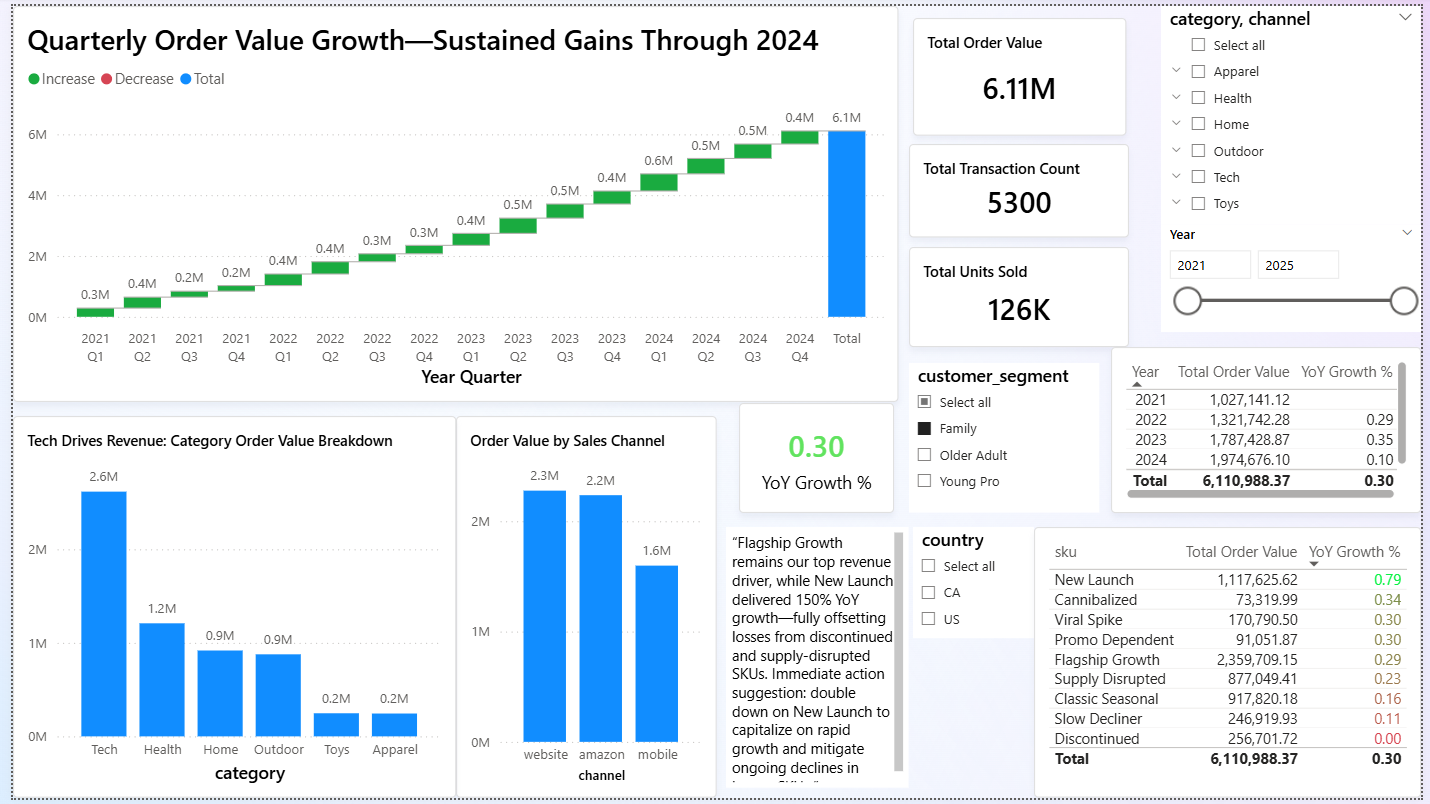

Layout of this report page (visuals, bound fields, positions):
{"tool":"powerbi","page":{"name":"KPI Dashboard","canvas":[1280,720],"ordinal":0},"visuals":[{"type":"waterfallChart","title":"Quarterly Order Value Growth—Sustained Gains Through 2024","fields":{"Category":["DateTable.Year","DateTable.Quarter"],"Y":["public mart_sales_summary.Total Order Value"]},"box":[0,0,805.3,359.9],"z":0},{"type":"slicer","fields":{"Values":["public mart_sales_summary.category","public mart_sales_summary.channel"]},"box":[1043.6,0,236.4,168.2],"z":1000},{"type":"card","title":"Total Units Sold","fields":{"Values":["Sum(public mart_sales_summary.total_units_sold)"]},"box":[814.1,218.8,200.4,91.4],"z":2000},{"type":"card","title":"Total Transaction Count","fields":{"Values":["Sum(public mart_sales_summary.transaction_count)"]},"box":[814.1,125.5,200.4,84.6],"z":3000},{"type":"card","title":"Total Order Value","fields":{"Values":["public mart_sales_summary.Total Order Value"]},"box":[818,10.7,193.6,107],"z":4000},{"type":"columnChart","title":"Order Value by Sales Channel","fields":{"Category":["public mart_sales_summary.channel"],"Y":["Sum(public mart_sales_summary.total_order_value)"]},"box":[402.7,372.5,237.3,347.2],"z":5000},{"type":"columnChart","title":"Tech Drives Revenue: Category Order Value Breakdown","fields":{"Y":["Sum(public mart_sales_summary.total_order_value)"],"Category":["public mart_sales_summary.category"]},"box":[0,372.5,402.7,347.2],"z":6000},{"type":"tableEx","fields":{"Values":["DateTable.Year","public mart_sales_summary.Total Order Value","public mart_sales_summary.YoY Growth %"]},"box":[997.9,310.3,282.1,150.8],"z":7000},{"type":"card","fields":{"Values":["public mart_sales_summary.YoY Growth %"]},"box":[660.4,360.9,141,100.2],"z":8000},{"type":"slicer","fields":{"Values":["DateTable.Year","DateTable.Month"]},"box":[1043.6,180,236.4,120.9],"z":9000},{"type":"slicer","fields":{"Values":["public mart_sales_summary.country"]},"box":[818,473.7,109.9,101.2],"z":10000},{"type":"tableEx","fields":{"Values":["public mart_sales_summary.sku","public mart_sales_summary.Total Order Value","public mart_sales_summary.YoY Growth %"]},"box":[927.9,473.7,352.1,246.1],"z":11000},{"type":"slicer","fields":{"Values":["public mart_sales_summary.customer_segment"]},"box":[814.1,324.9,173.1,136.2],"z":12000},{"type":"textbox","box":[647.8,473.7,166.3,237.3],"z":13000}]}

Visuals, with their boxes in screenshot pixels (x1, y1, x2, y2), scaled from the page's 1280x720 canvas onto the 1430x804 screenshot:
"Quarterly Order Value Growth—Sustained Gains Through 2024" waterfallChart: select_region(0, 0, 900, 402)
slicer - public mart_sales_summary.category x public mart_sales_summary.channel: select_region(1166, 0, 1429, 188)
"Total Units Sold" card: select_region(910, 244, 1133, 346)
"Total Transaction Count" card: select_region(910, 140, 1133, 235)
"Total Order Value" card: select_region(914, 12, 1130, 131)
"Order Value by Sales Channel" columnChart: select_region(450, 416, 715, 803)
"Tech Drives Revenue: Category Order Value Breakdown" columnChart: select_region(0, 416, 450, 803)
tableEx - DateTable.Year x public mart_sales_summary.Total Order Value: select_region(1115, 347, 1429, 515)
card - public mart_sales_summary.YoY Growth %: select_region(738, 403, 895, 515)
slicer - DateTable.Year x DateTable.Month: select_region(1166, 201, 1429, 336)
slicer - public mart_sales_summary.country: select_region(914, 529, 1037, 642)
tableEx - public mart_sales_summary.sku x public mart_sales_summary.Total Order Value: select_region(1037, 529, 1429, 803)
slicer - public mart_sales_summary.customer_segment: select_region(910, 363, 1103, 515)
textbox: select_region(724, 529, 910, 794)
